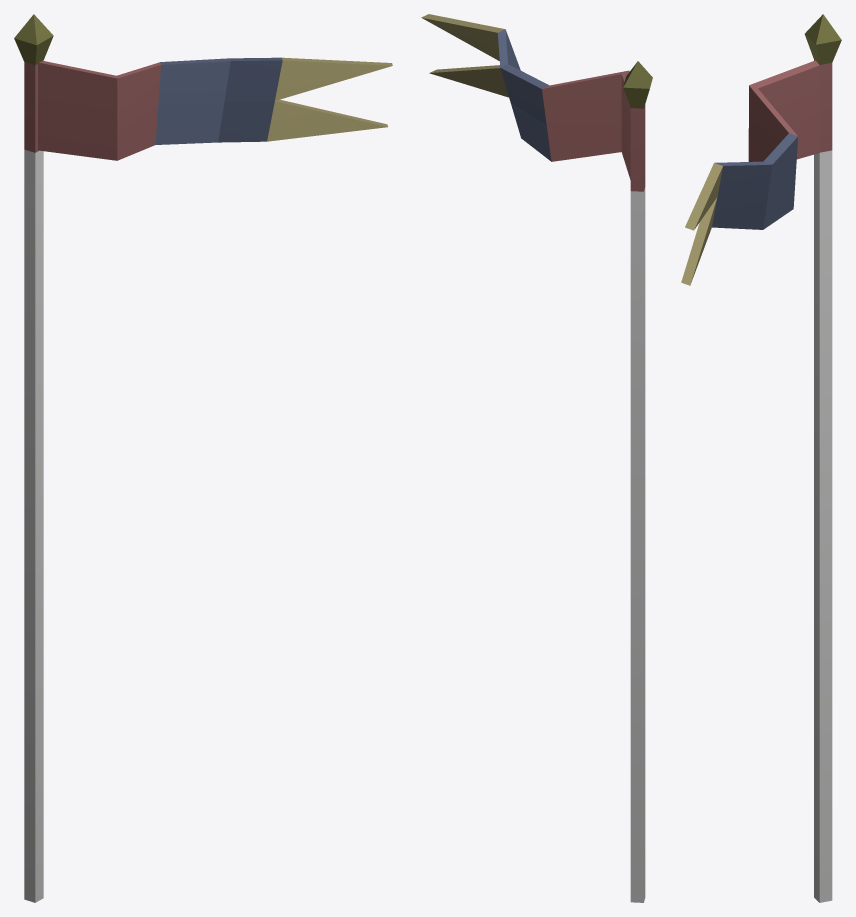
The picture shows the model from 3 angles, left to right: view 1: azimuth 30°, elevation 25°; view 2: azimuth 150°, elevation 25°; view 3: azimuth 270°, elevation 25°; orthographic projection. The views are drawn at different scales.
Visible parts, largest first — view 1: FlagPole_0; view 2: FlagPole_0; view 3: FlagPole_0.
Part boxes in pixels (box(x1,y1,x2,y2)): FlagPole_0: box(14, 14, 392, 902); FlagPole_0: box(421, 14, 652, 902); FlagPole_0: box(681, 14, 841, 902).
Bounding box in the file's own units: 3.51 × 9.59 × 1.58.
1 material, 1 textured.
